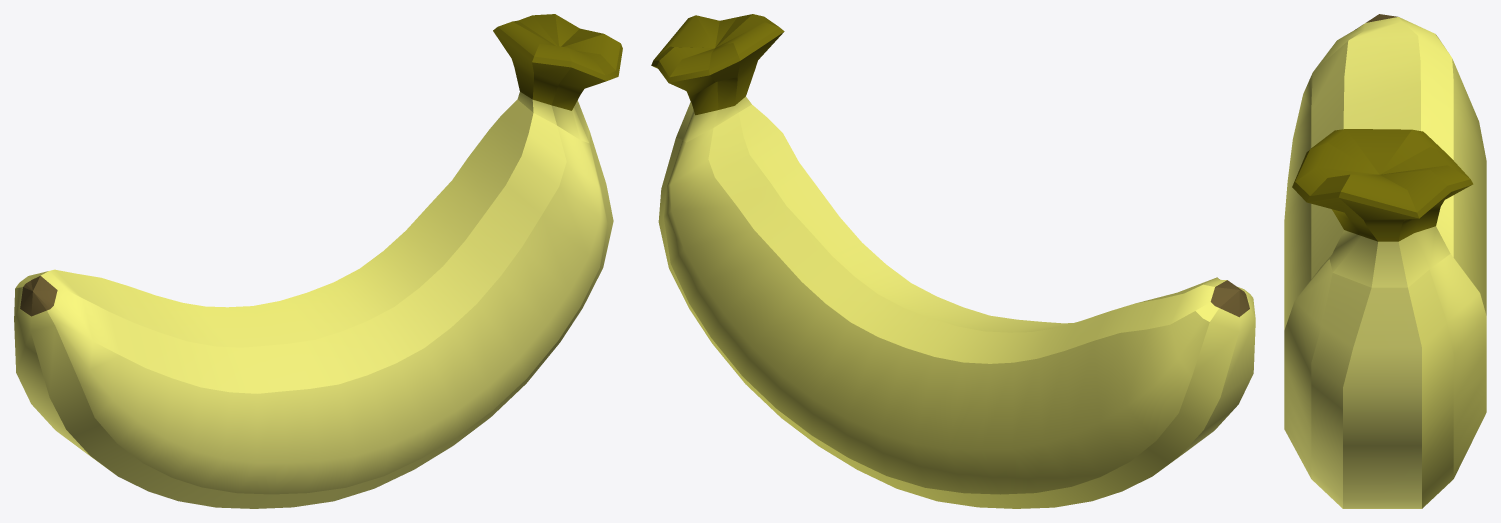
The model's file is SM_Banana.fbx.
3 renders of one model, left to right at view 1: azimuth 30°, elevation 25°; view 2: azimuth 150°, elevation 25°; view 3: azimuth 270°, elevation 25°, orthographic. The views are drawn at different scales.
Parts seen in each view (by area): view 1: SM_Banana; view 2: SM_Banana; view 3: SM_Banana.
Boxes of the visible parts, x1,y1,x2,y2 form: SM_Banana: [14, 14, 622, 508]; SM_Banana: [651, 14, 1255, 508]; SM_Banana: [1284, 14, 1486, 508].
Bounding box in the file's own units: 0.15 × 0.1 × 0.04.
